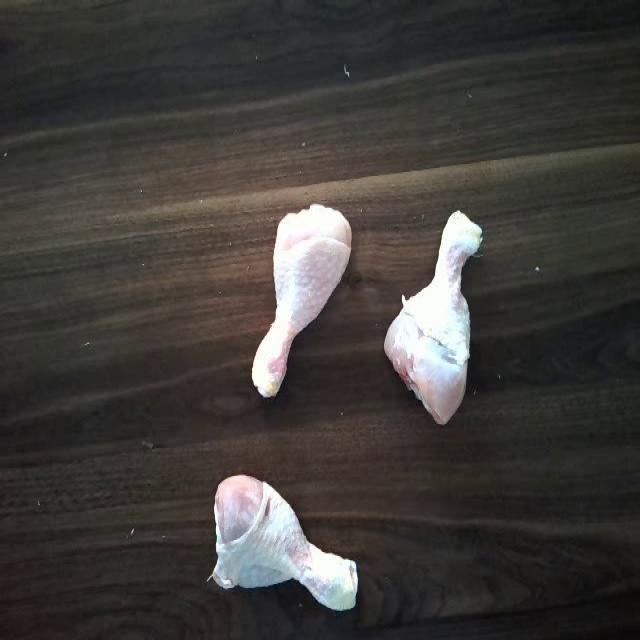leg: (376, 193, 488, 431), (244, 198, 354, 422), (208, 468, 364, 614)
